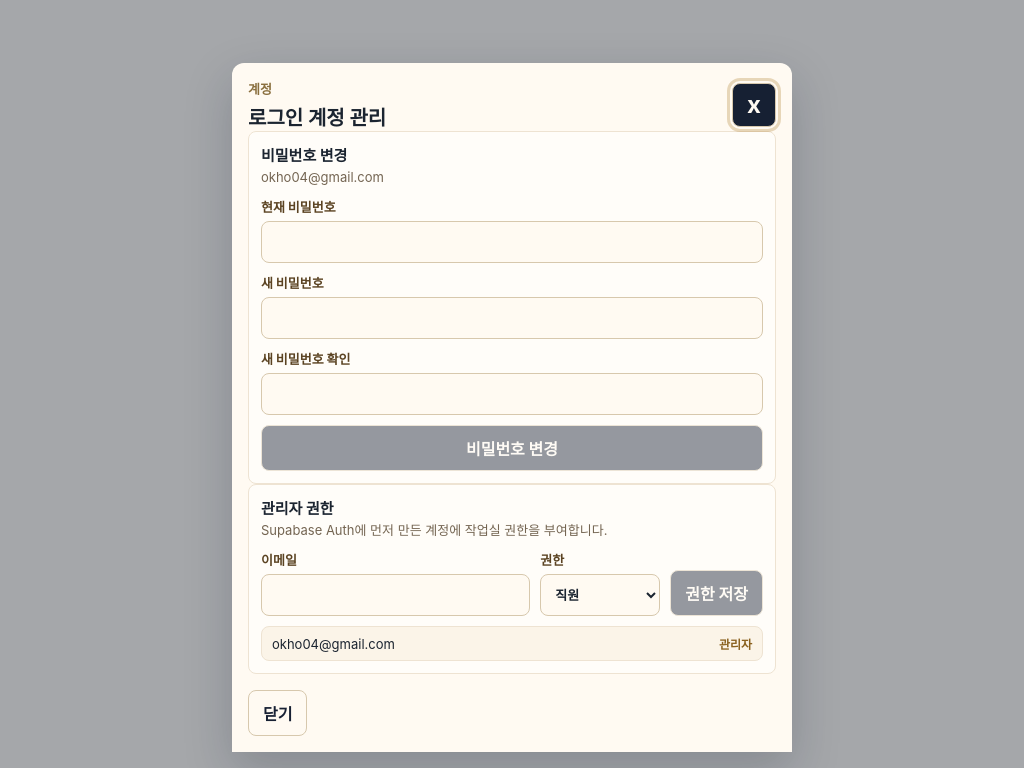
Scenario: AccountModal › shows owner member management and grants owner role by email
Check: the 1st text "okho04@gmail.com" is shown, box x1=261 y1=169 x2=384 y2=185
Check: the text "관리자" is shown, box x1=719 y1=635 x2=752 y2=652
Type "jsss2536@naver.com" into the field labelled "이메일" at (396, 595), box x1=261 y1=574 x2=530 y2=616
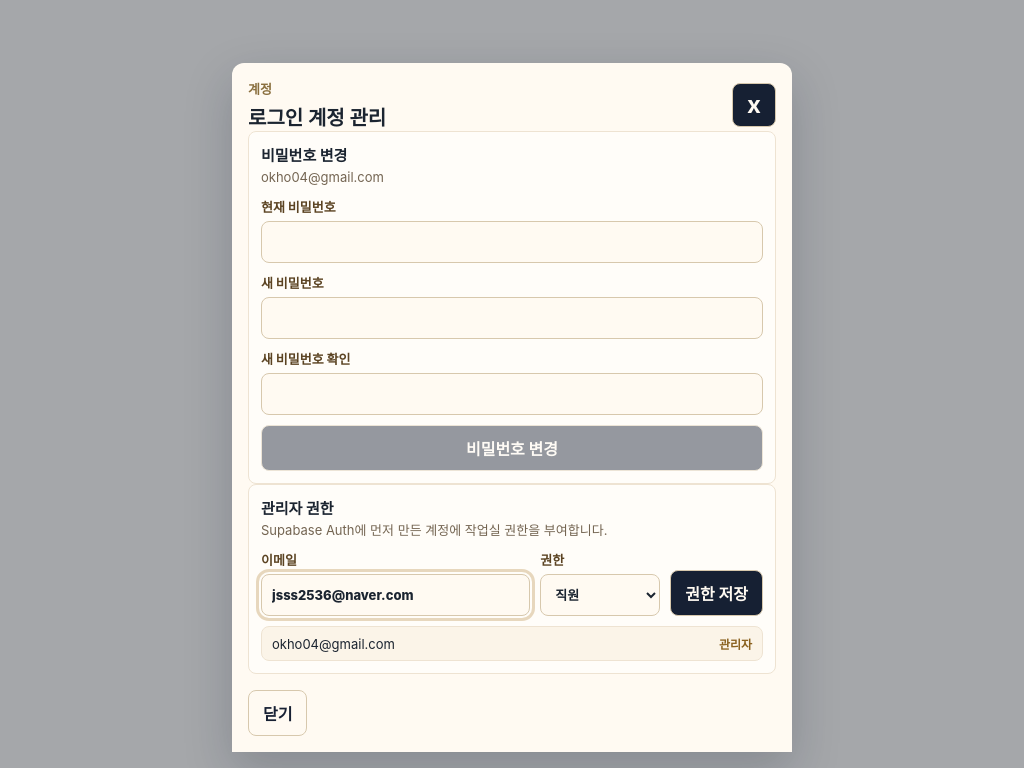
Select "관리자" in the dropdown labelled "권한" at (600, 595), box x1=540 y1=574 x2=660 y2=616
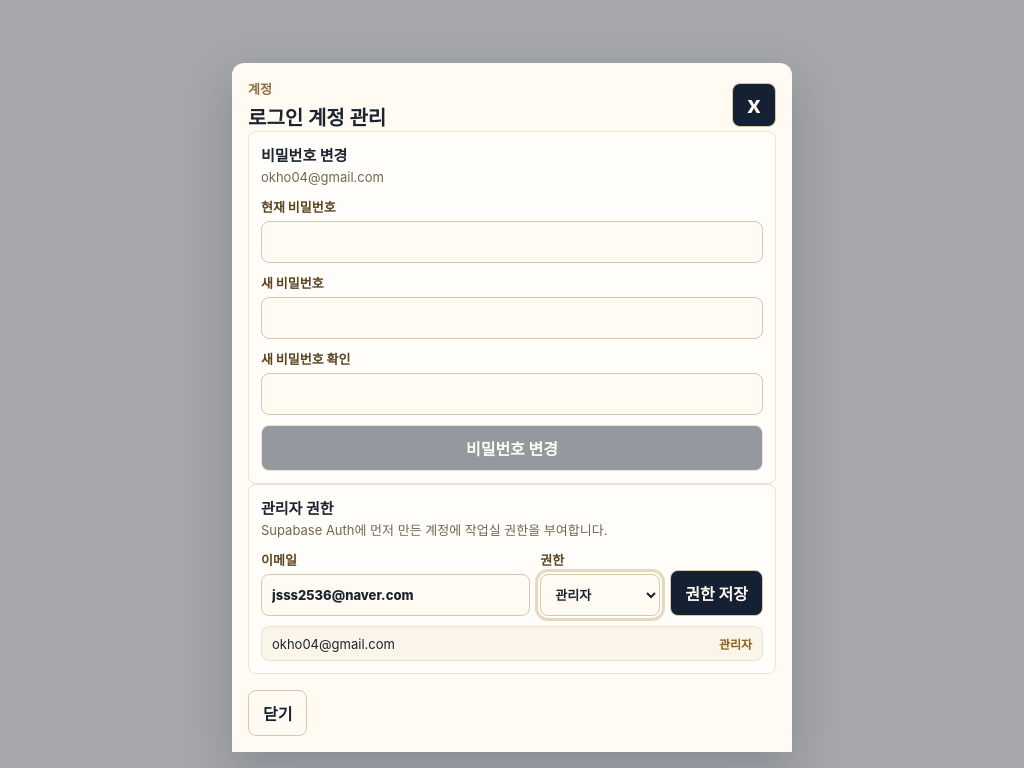
Click the button "권한 저장" at (717, 593), box x1=670 y1=570 x2=763 y2=616
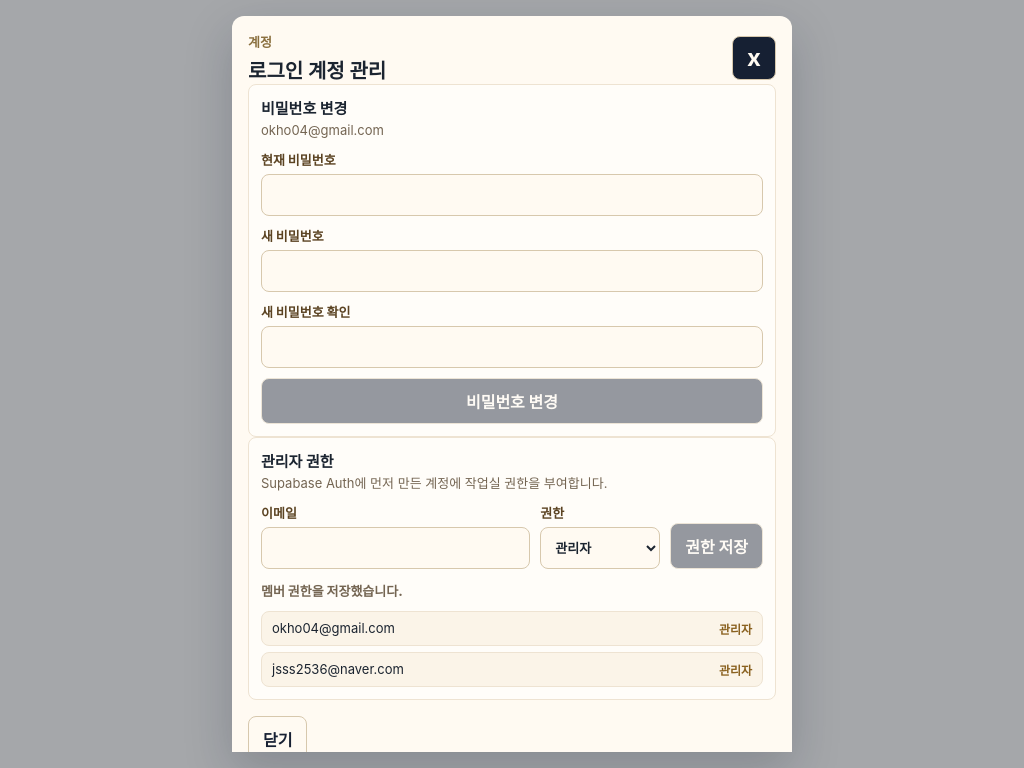
Check: the text "멤버 권한을 저장했습니다." is shown, box x1=261 y1=583 x2=403 y2=599
Check: the text "jsss2536@naver.com" is shown, box x1=272 y1=661 x2=404 y2=677
